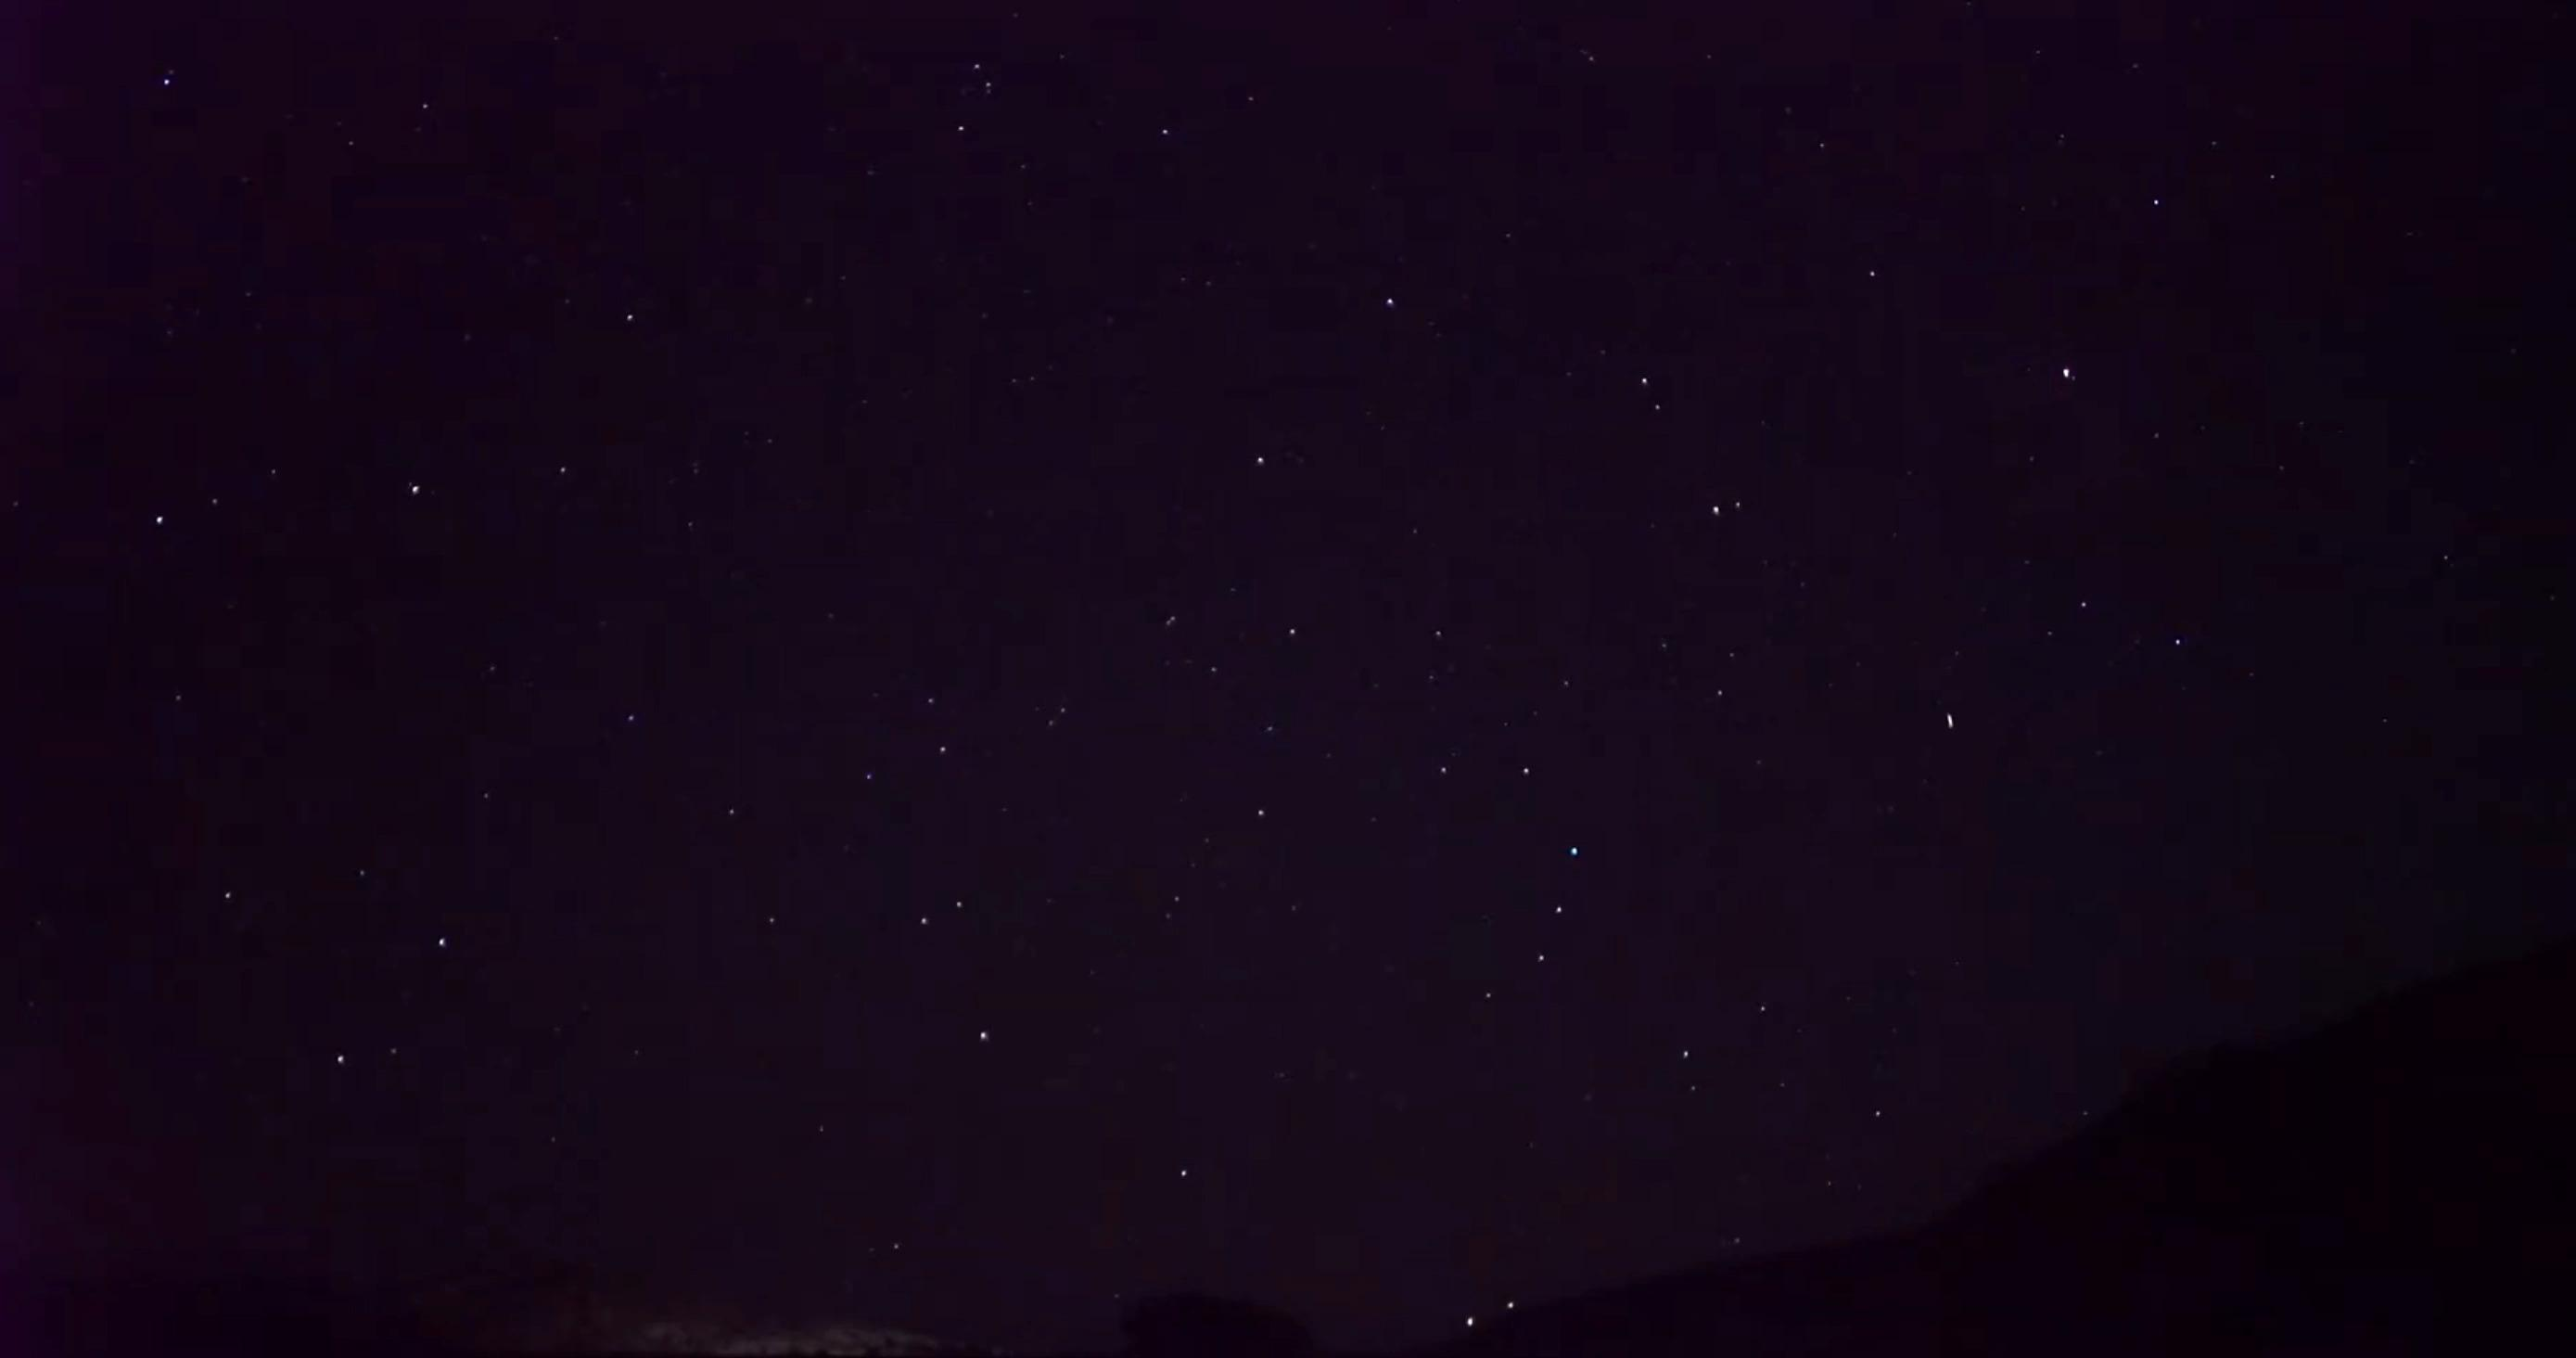meteorite: (1923, 697, 1968, 739)
